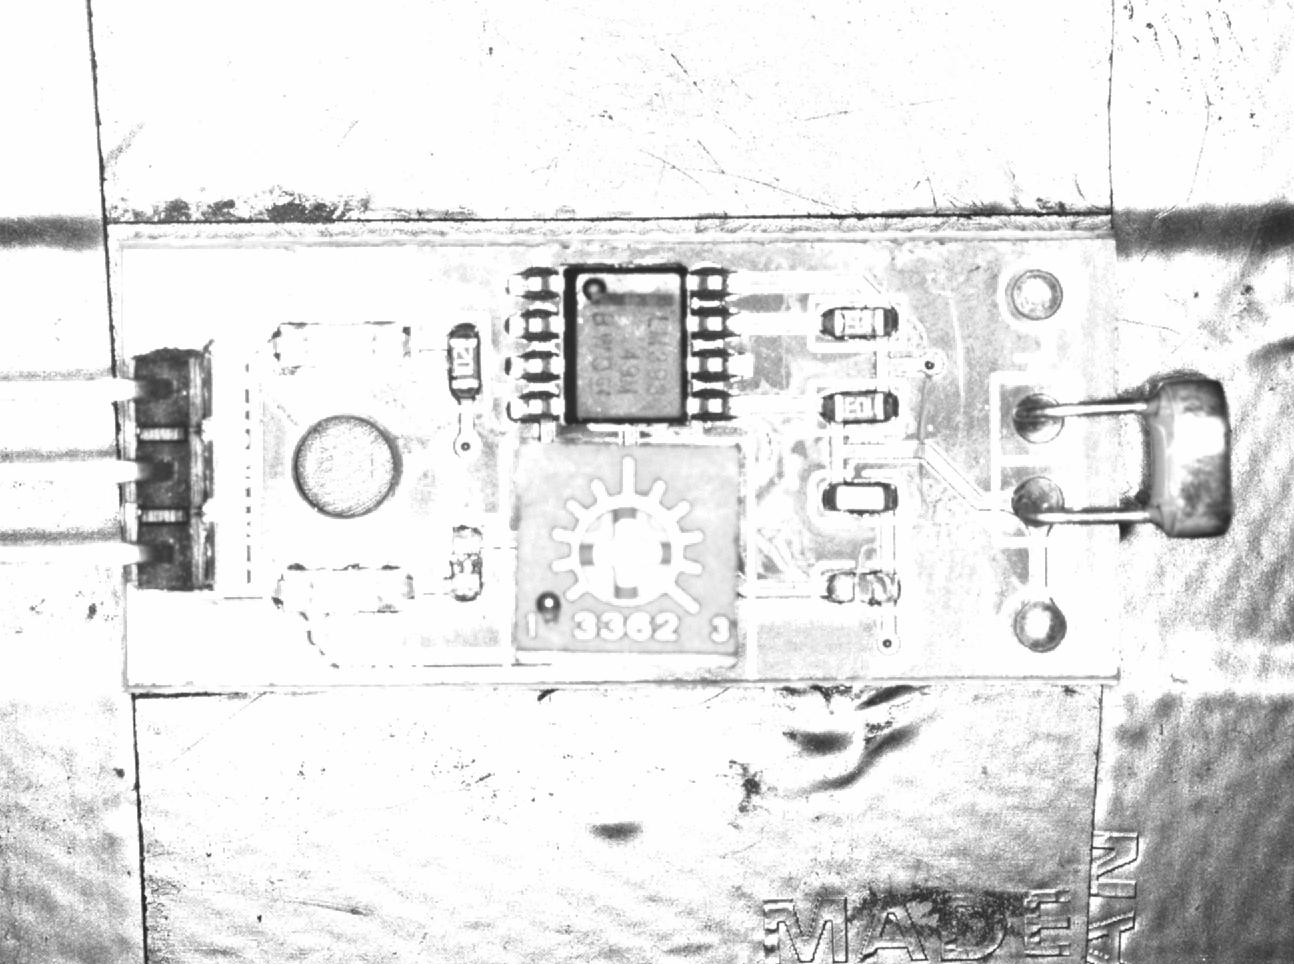miss: (810, 298, 906, 350), (440, 515, 490, 614), (814, 563, 913, 611)
ok: (806, 381, 913, 436), (805, 473, 906, 524), (438, 313, 491, 410)
